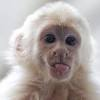monkey: (15, 6, 99, 95)
